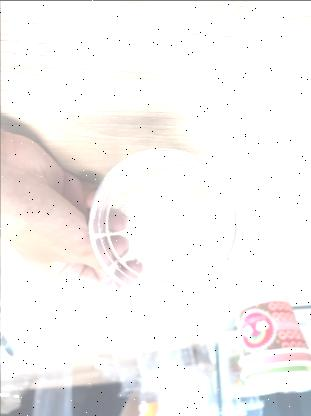Others: (85, 146, 240, 300)
